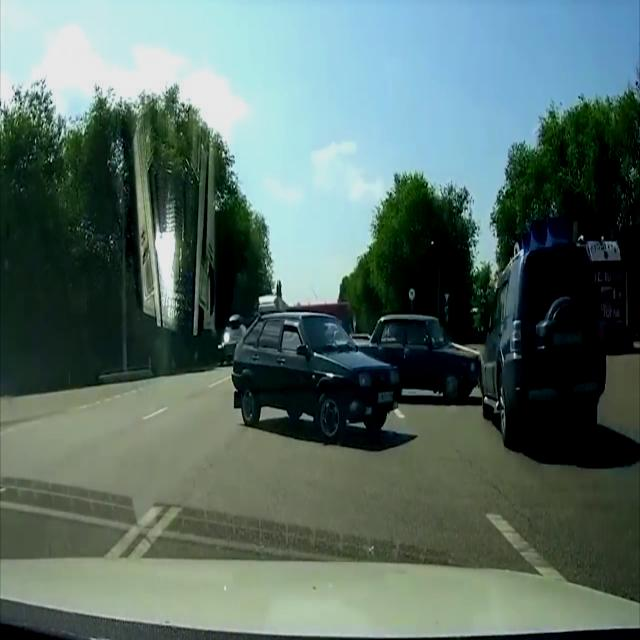non-accident: (229, 244, 611, 450), (228, 302, 484, 444)
